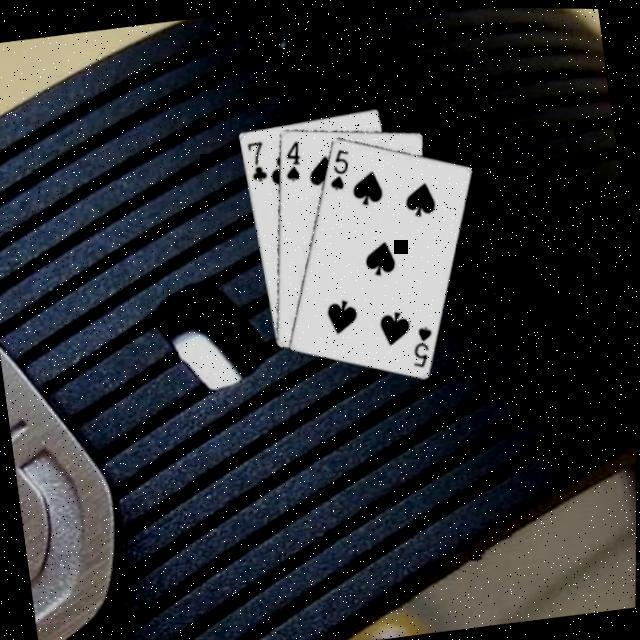4S: (275, 134, 304, 182)
5S: (403, 319, 437, 368), (320, 142, 354, 190)
7C: (240, 135, 268, 183)
